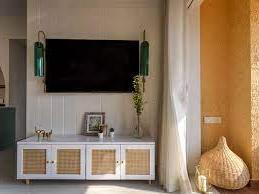TV: (42, 39, 140, 95)
console: (15, 136, 159, 184)
light: (140, 30, 151, 90), (33, 29, 45, 74)
